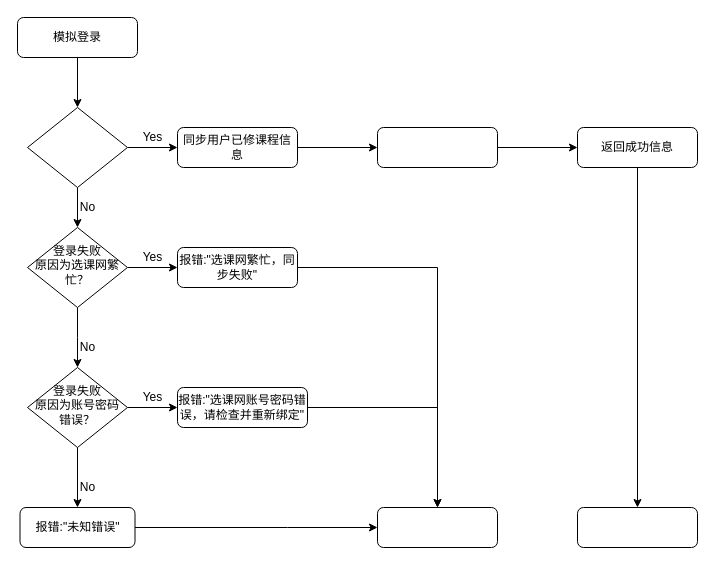
The diagram is 715 pixels wide and 565 high, and some of its shapes have lost their labels. Here are the shapes that lost their labels. From the top down, the centre of each, then its label:
At pixel 77 147: "模拟登录成功?".
At pixel 437 147: "同步用户已选课程信息".
At pixel 437 527: "返回 失败".
At pixel 637 527: "返回 成功".
